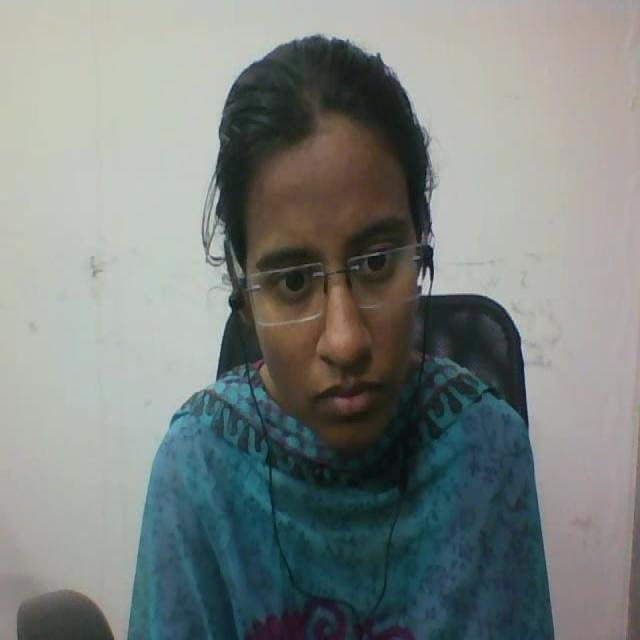Engaged: (187, 24, 450, 473)
